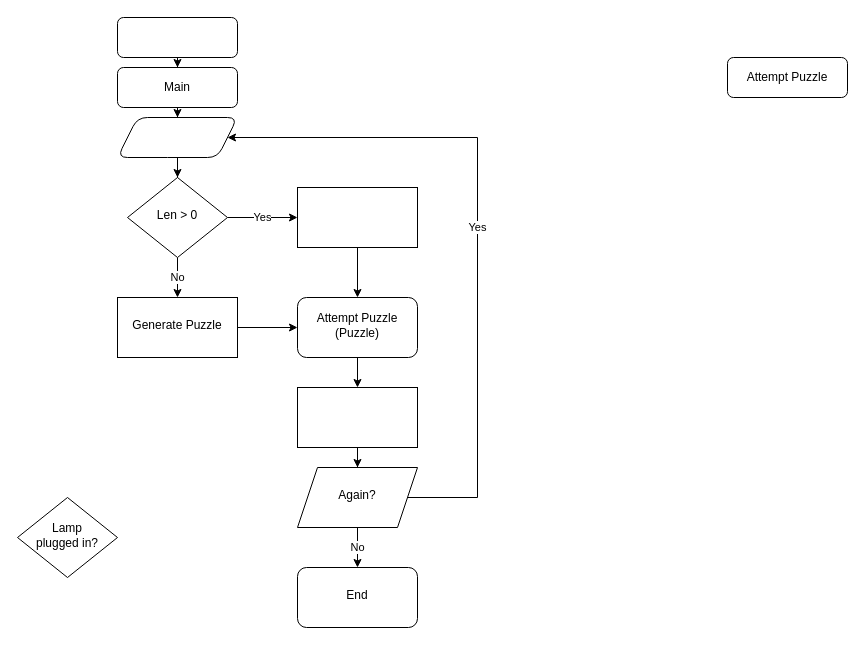
This 865x645 diagram has some shape labels left out. Each missing label, with the centre of its shape:
"Display Puzzle Result" belongs at point 357,417.
"Enter filename" belongs at point 177,137.
"Load Puzzle (Filename)" belongs at point 357,217.
"Start" belongs at point 177,37.
